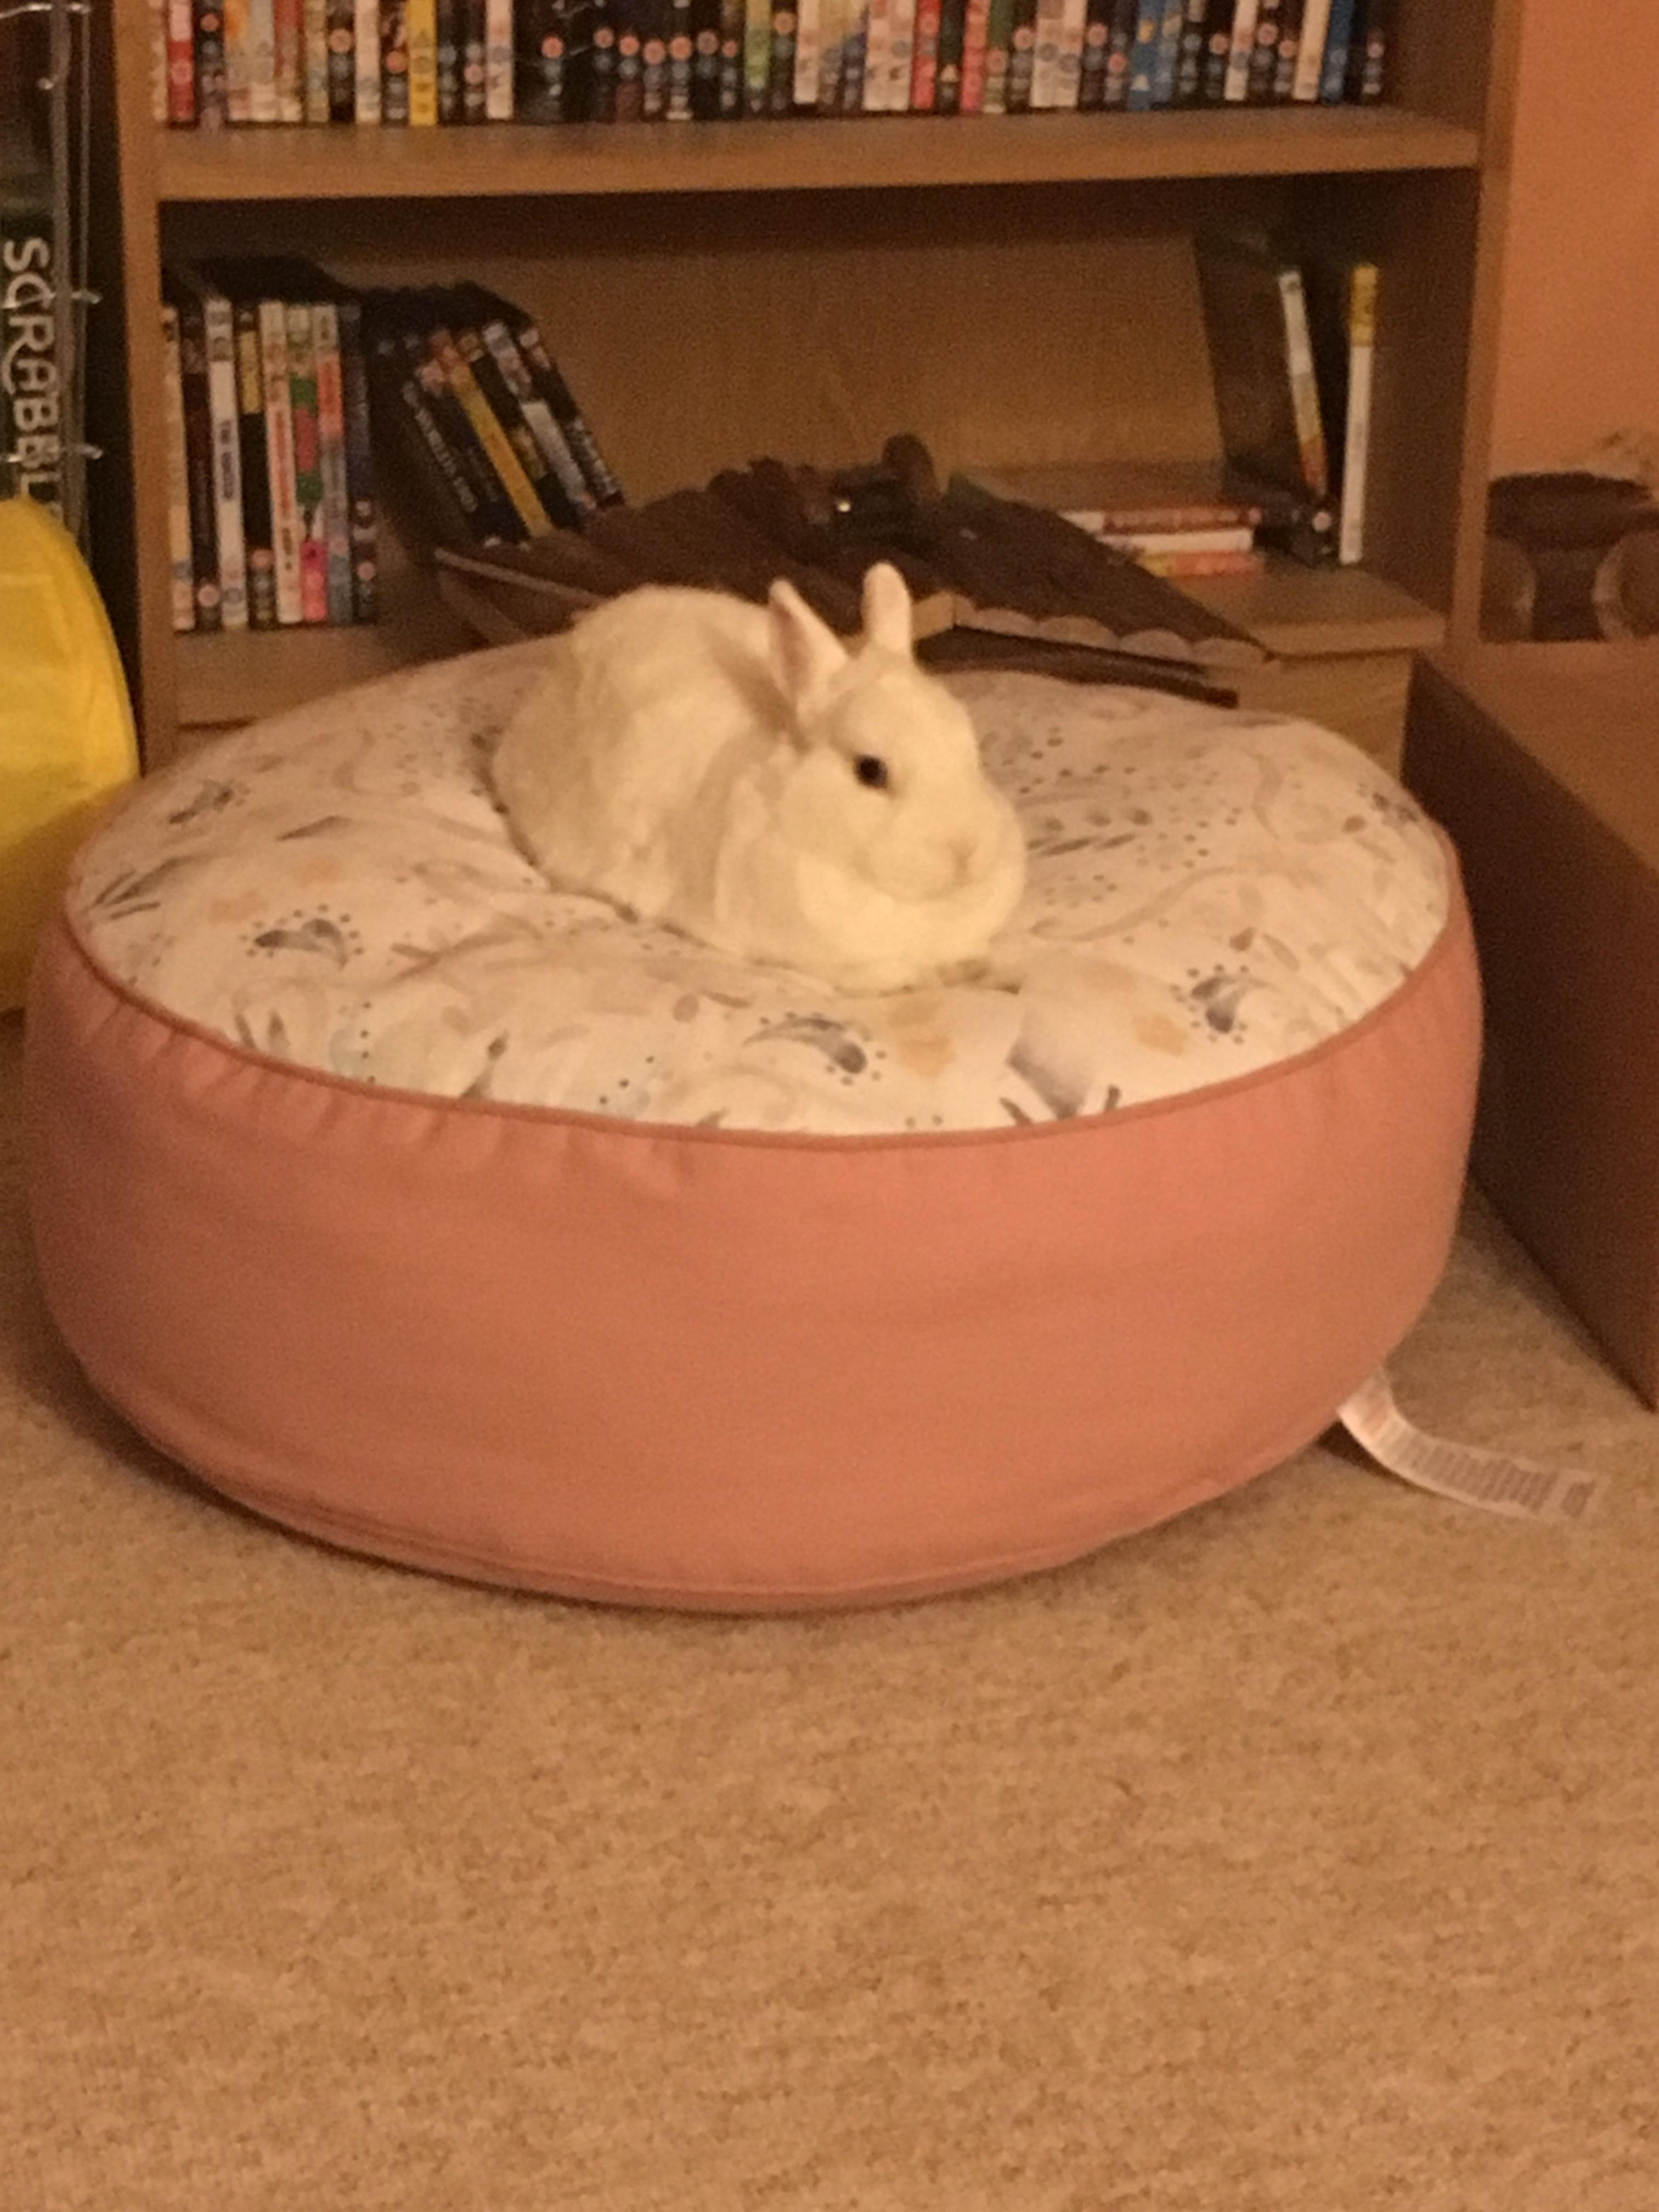bunny: (465, 529, 1044, 991)
